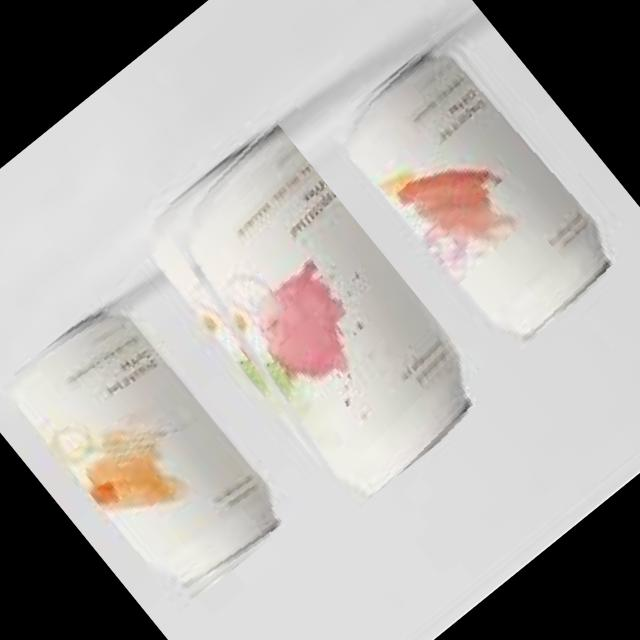Cans: (122, 117, 496, 514), (322, 23, 640, 360), (0, 292, 298, 615)
